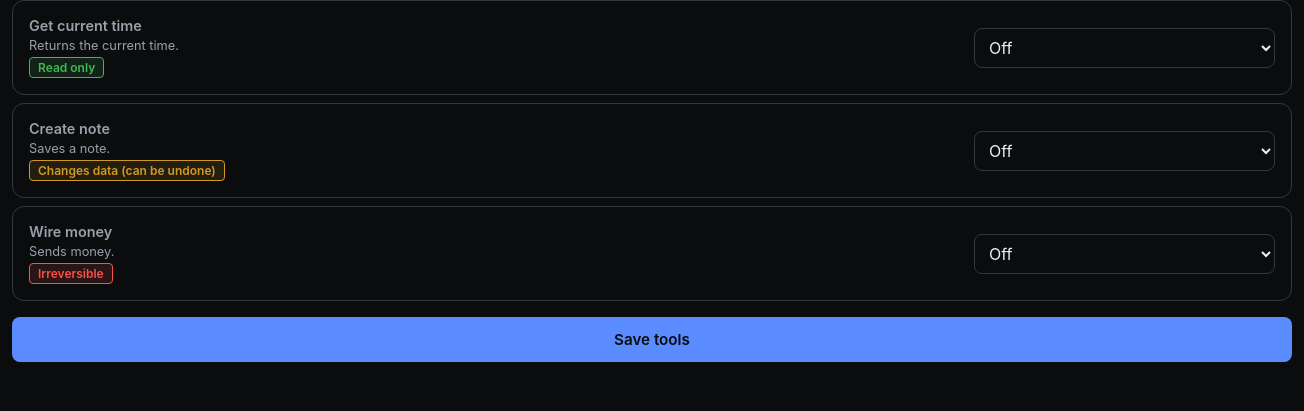
ToolBindingsEditor › submits one field per tool with the chosen mode
Select "Ask a person first (recommended)" in the dropdown labelled "Create note" at (1124, 150), box [974, 130, 1275, 170]
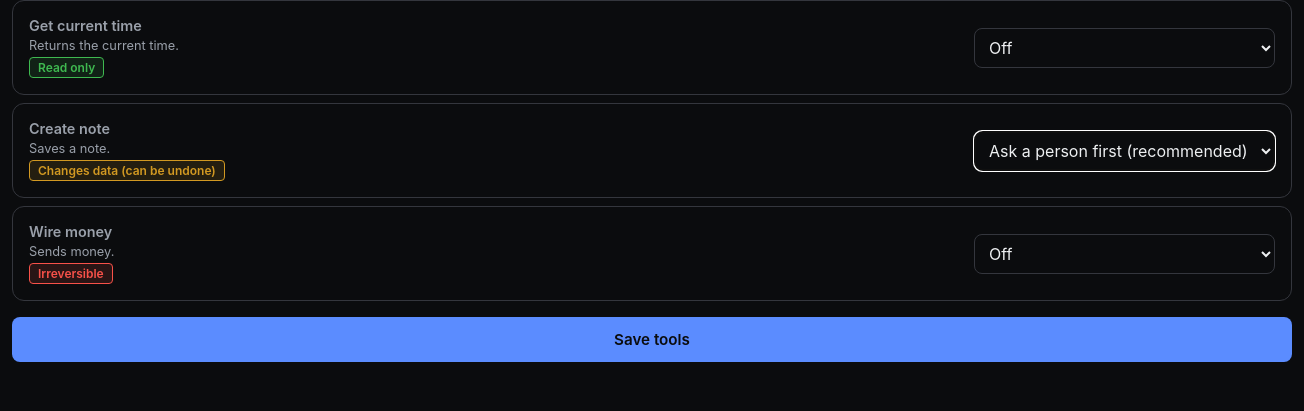
Select "Run automatically" in the dropdown labelled "Get current time" at (1124, 48), box [974, 28, 1275, 68]
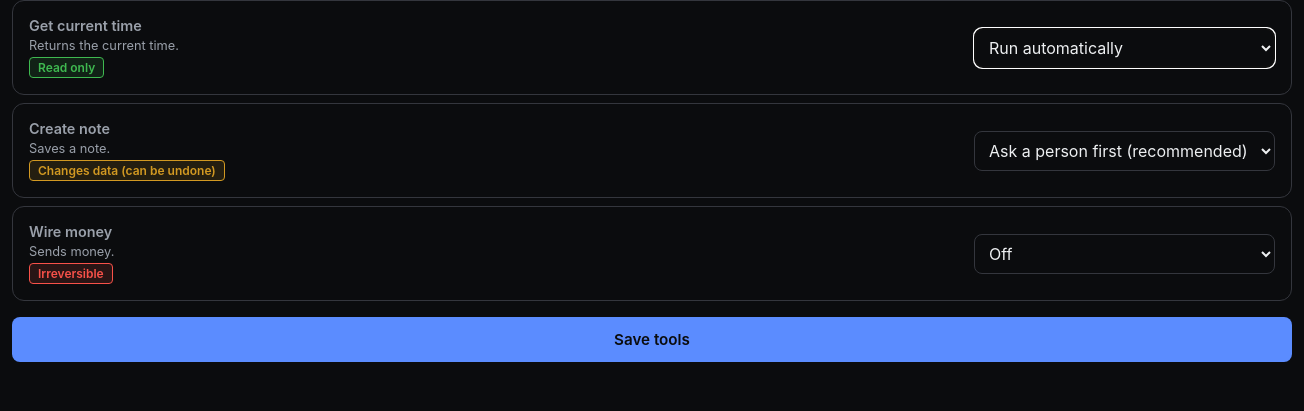
Click the button "Save tools" at (652, 340), box [12, 317, 1292, 362]
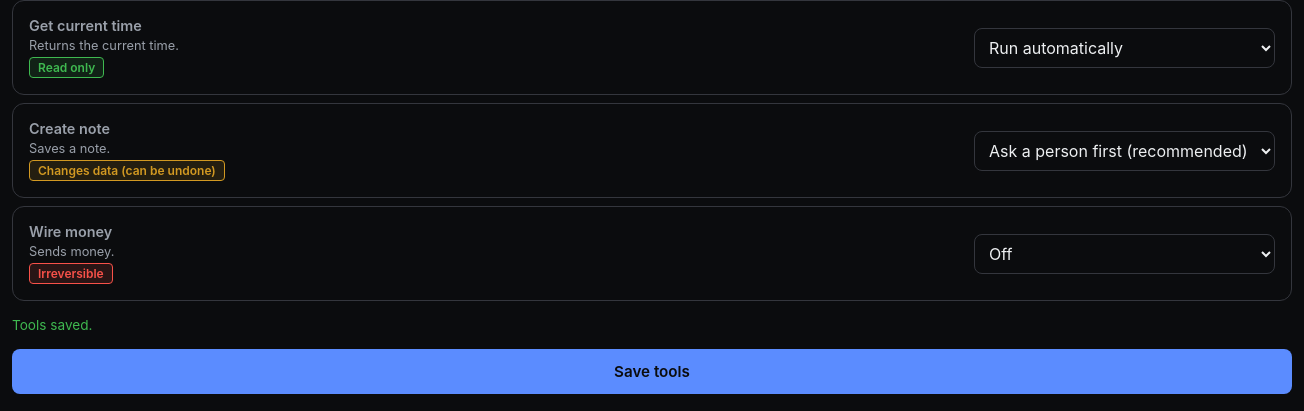
Check: the message reads "Tools saved.", box [12, 317, 92, 333]
